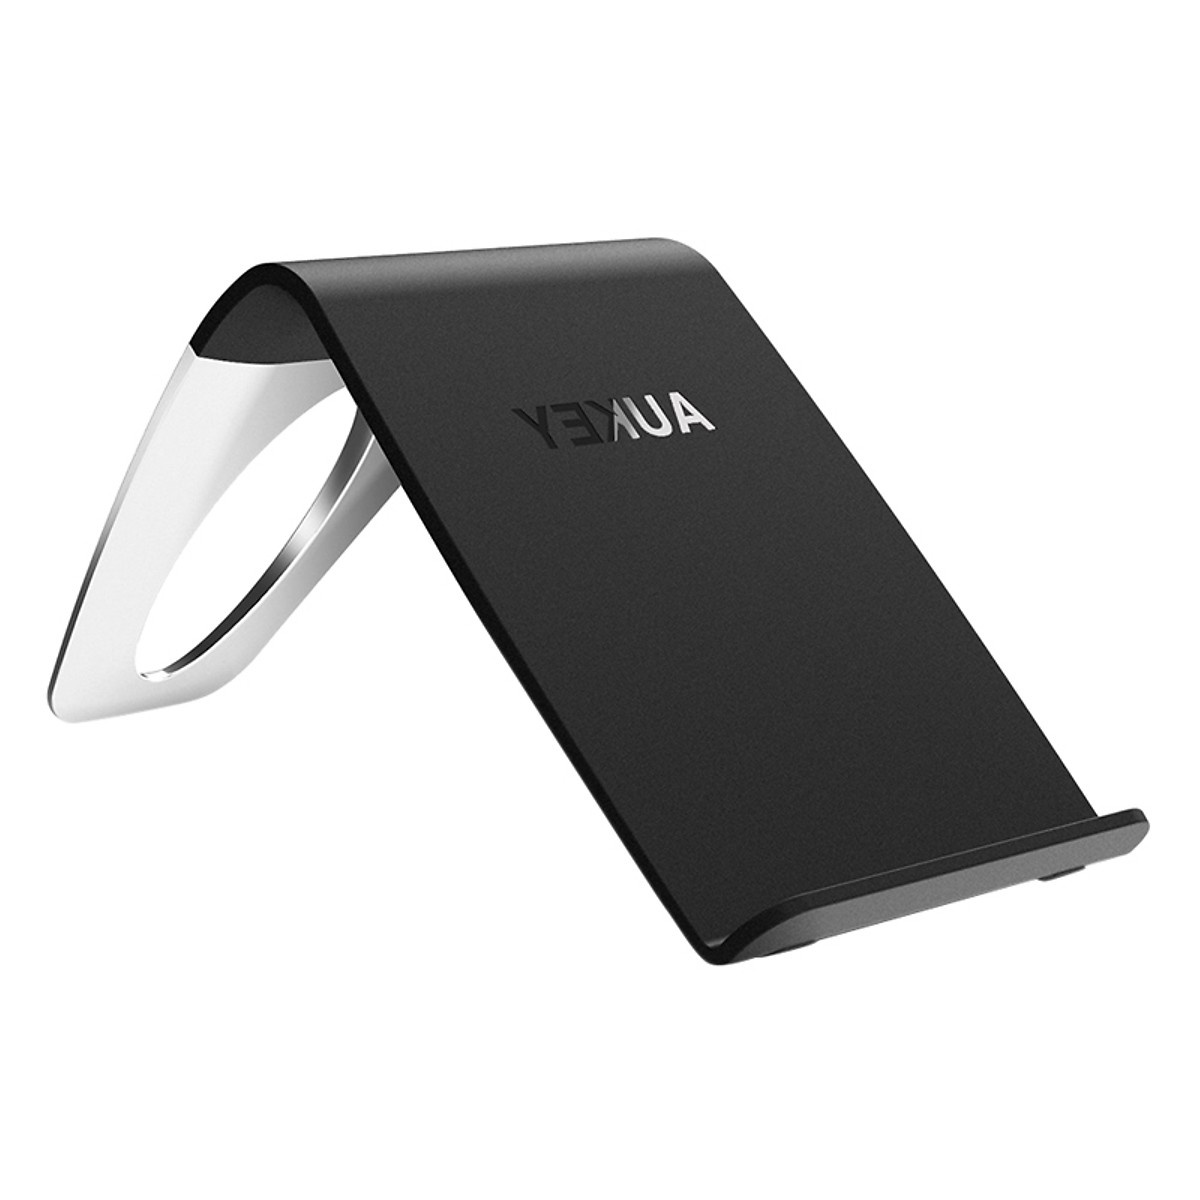Aukey: (395, 335, 738, 560)
